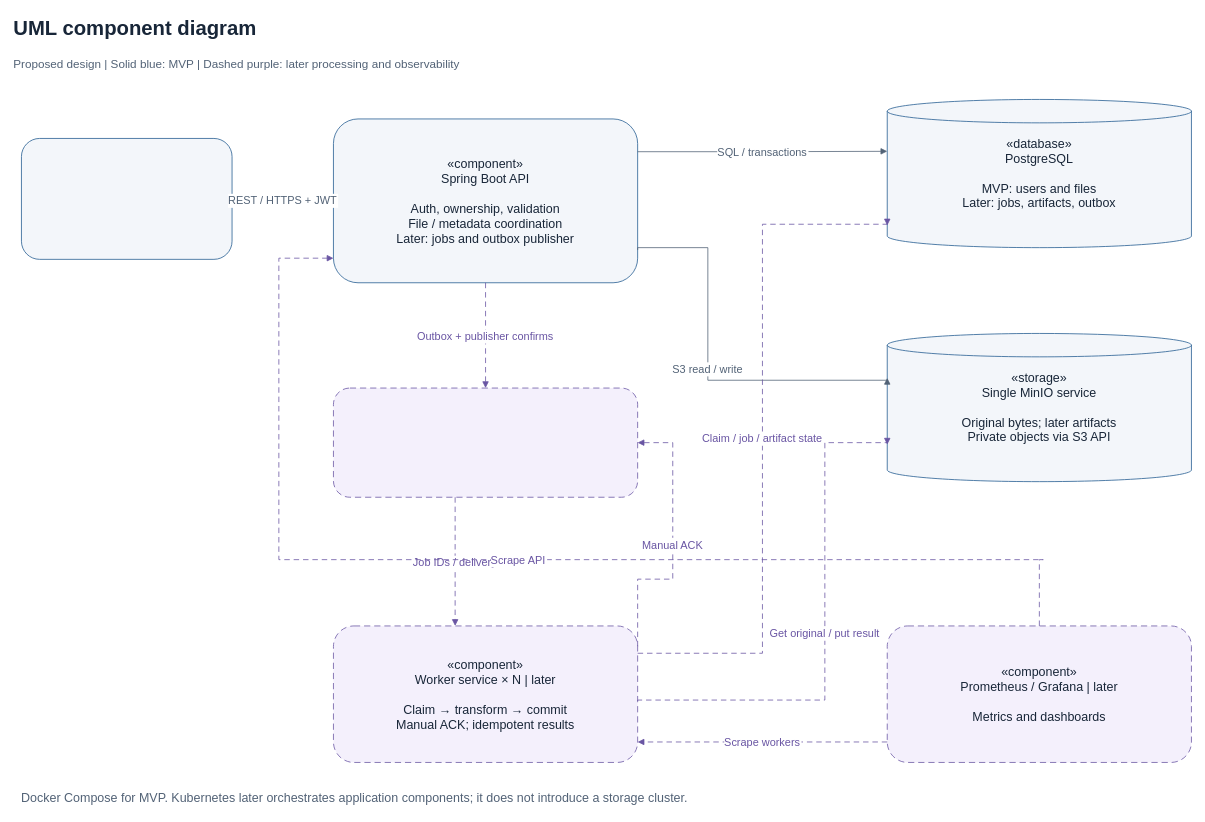
The diagram is 1205 pixels wide and 822 high, and some of its shapes have lost their labels. Each missing label, with the centre of its shape:
"«component» RabbitMQ | later Durable task dispatch" belongs at point (485, 442).
"«component» React frontend Browser UI; REST client" belongs at point (126, 198).
